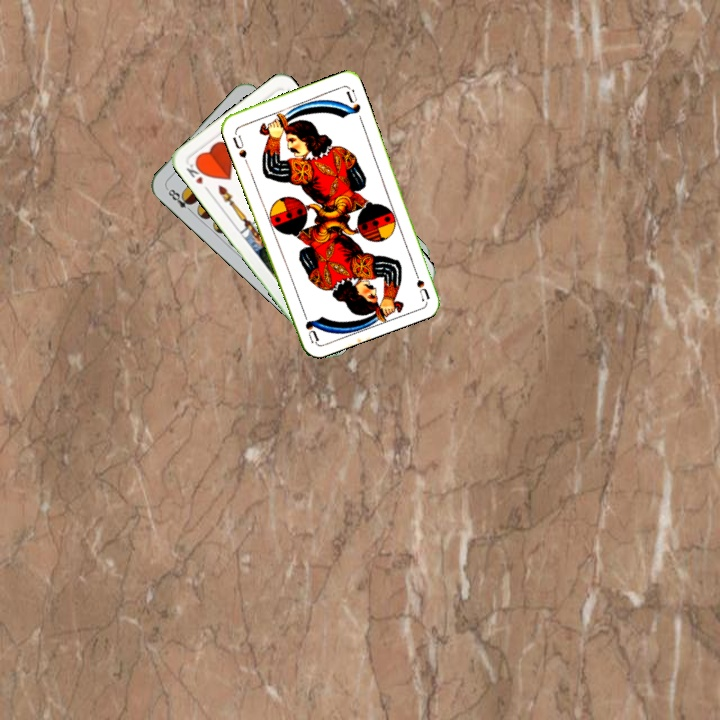E8: (162, 184, 196, 215)
HK: (182, 158, 212, 195)
SU: (409, 262, 432, 302), (229, 127, 249, 160)
